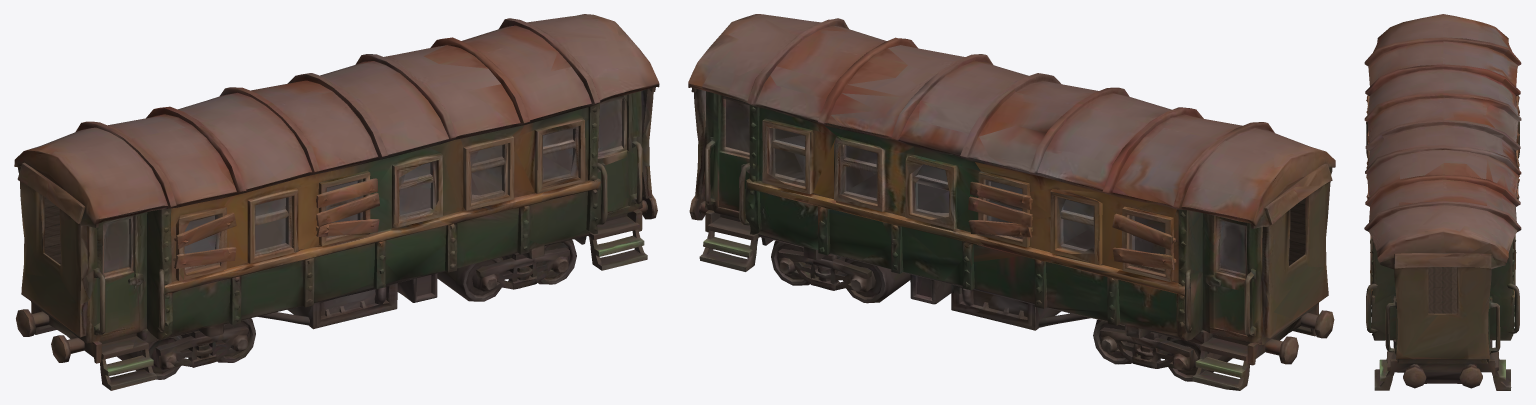
Rendered from train_coach_e.glb.
The picture shows the model from 3 angles, left to right: view 1: azimuth 30°, elevation 25°; view 2: azimuth 150°, elevation 25°; view 3: azimuth 270°, elevation 25°; orthographic projection. The views are drawn at different scales.
Visible parts, largest first — view 1: body, door_end_l, wheel_5, wheel_7, wheel_1, wheel_3; view 2: body, door_end_l, wheel_6, wheel_2, wheel_8, wheel_4; view 3: body, door_end_r.
Part boxes in pixels (box(x1,y1,x2,y2)): body: box(14, 14, 659, 390); door_end_l: box(32, 182, 70, 329); wheel_5: box(454, 256, 509, 301); wheel_7: box(536, 239, 576, 284); wheel_1: box(134, 334, 189, 379); wheel_3: box(215, 318, 255, 362); body: box(688, 14, 1335, 390); door_end_l: box(1283, 179, 1321, 327); wheel_6: box(838, 257, 892, 303); wheel_2: box(1159, 335, 1215, 381); wheel_8: box(771, 241, 811, 285); wheel_4: box(1093, 319, 1133, 364); body: box(1364, 14, 1521, 390); door_end_r: box(1411, 261, 1467, 359).
Bounding box in the file's own units: 8 × 2.94 × 2.26.
9 materials, 4 textured.
